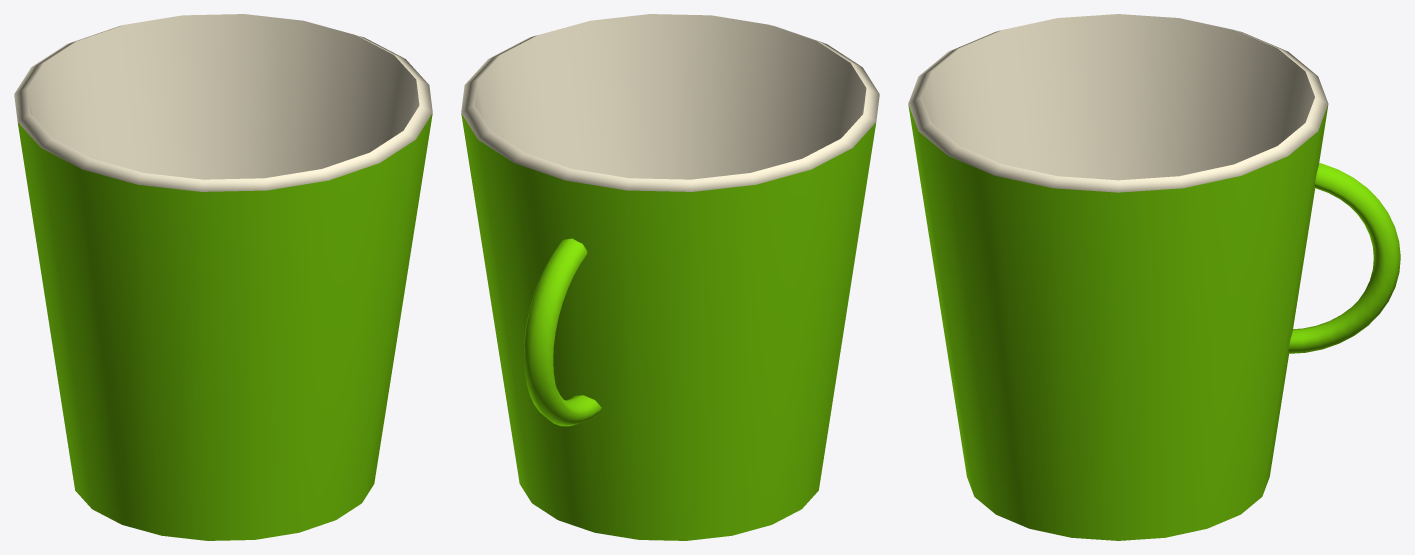
File: Cup_Green.fbx
3 views of the same model, side by side, from view 1: azimuth 30°, elevation 25°; view 2: azimuth 150°, elevation 25°; view 3: azimuth 270°, elevation 25° (orthographic).
Parts seen in each view (by area): view 1: pCylinder2; view 2: pCylinder2; view 3: pCylinder2.
Boxes of the visible parts, x1,y1,x2,y2 form: pCylinder2: [14, 14, 432, 540]; pCylinder2: [461, 14, 879, 540]; pCylinder2: [908, 14, 1400, 540].
Bounding box in the file's own units: 17.74 × 17.69 × 20.79.
